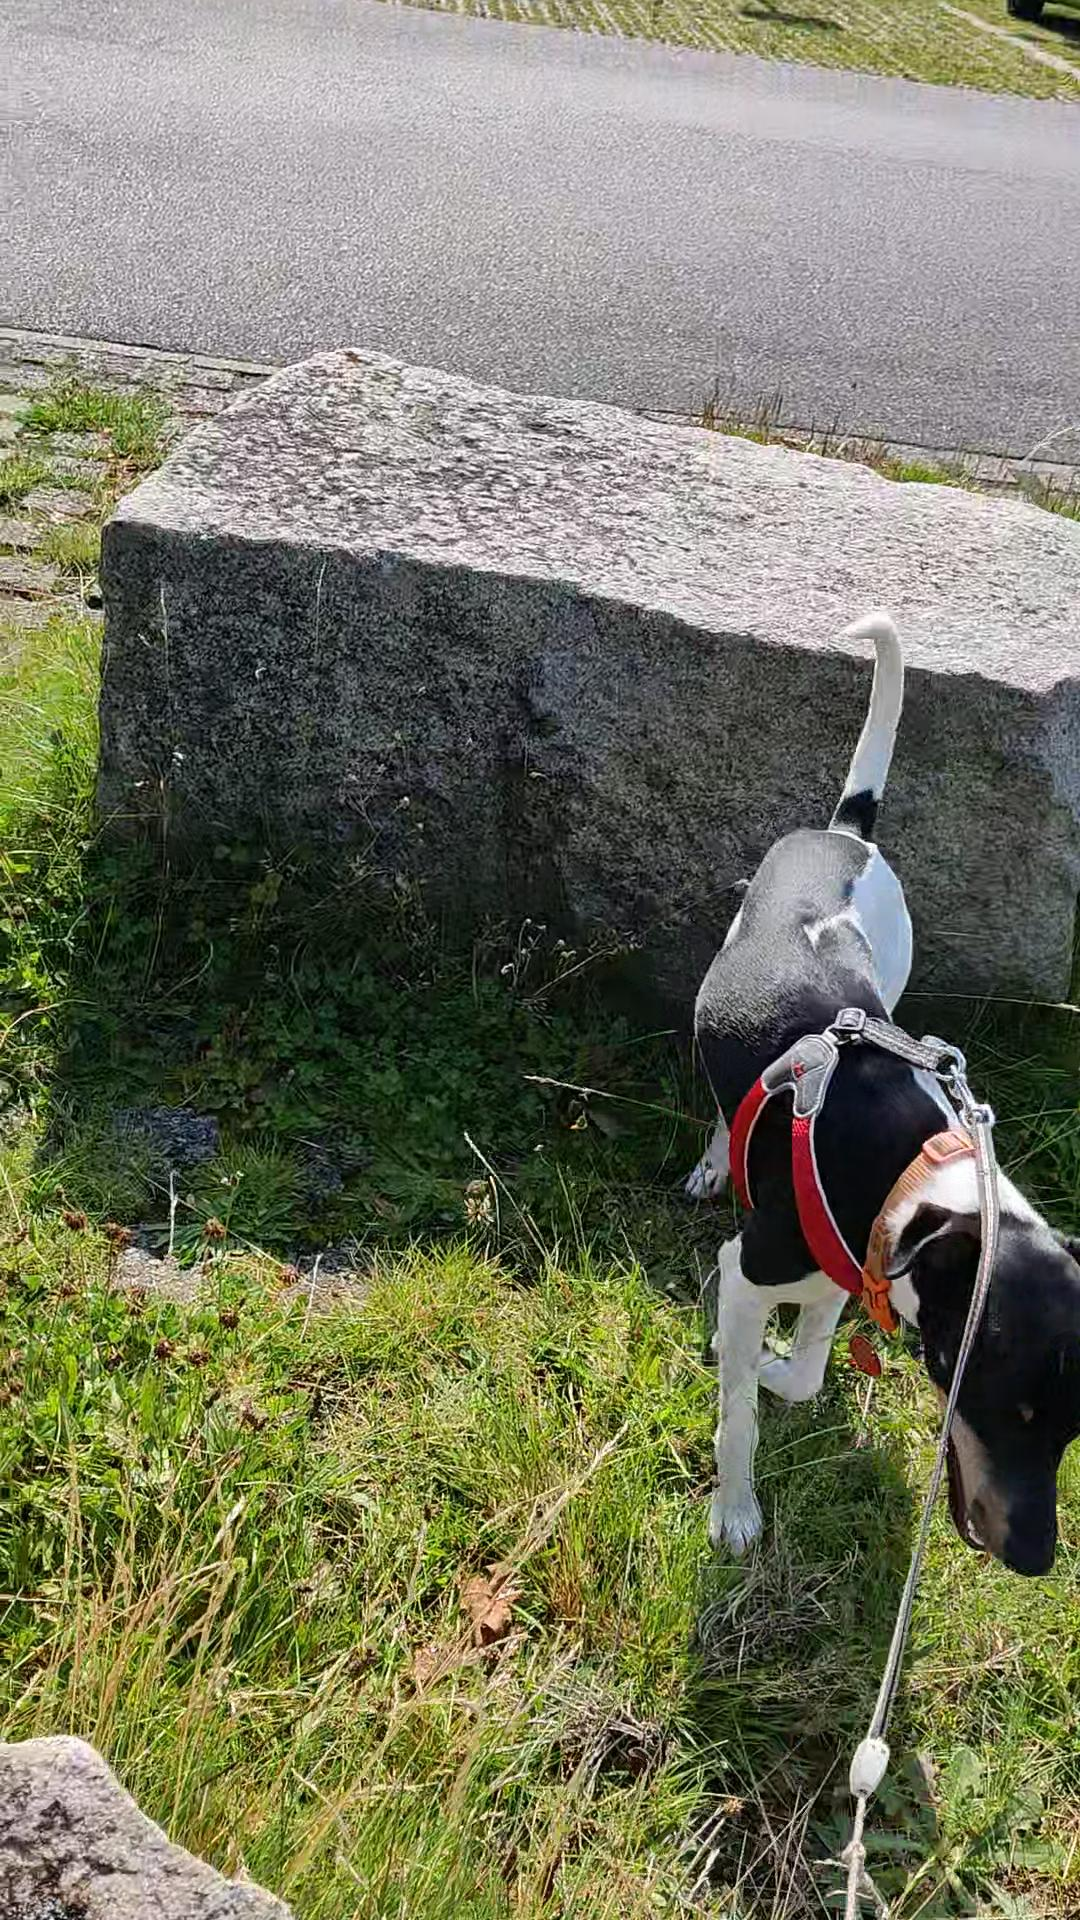Dog: (662, 591, 1079, 1573)
